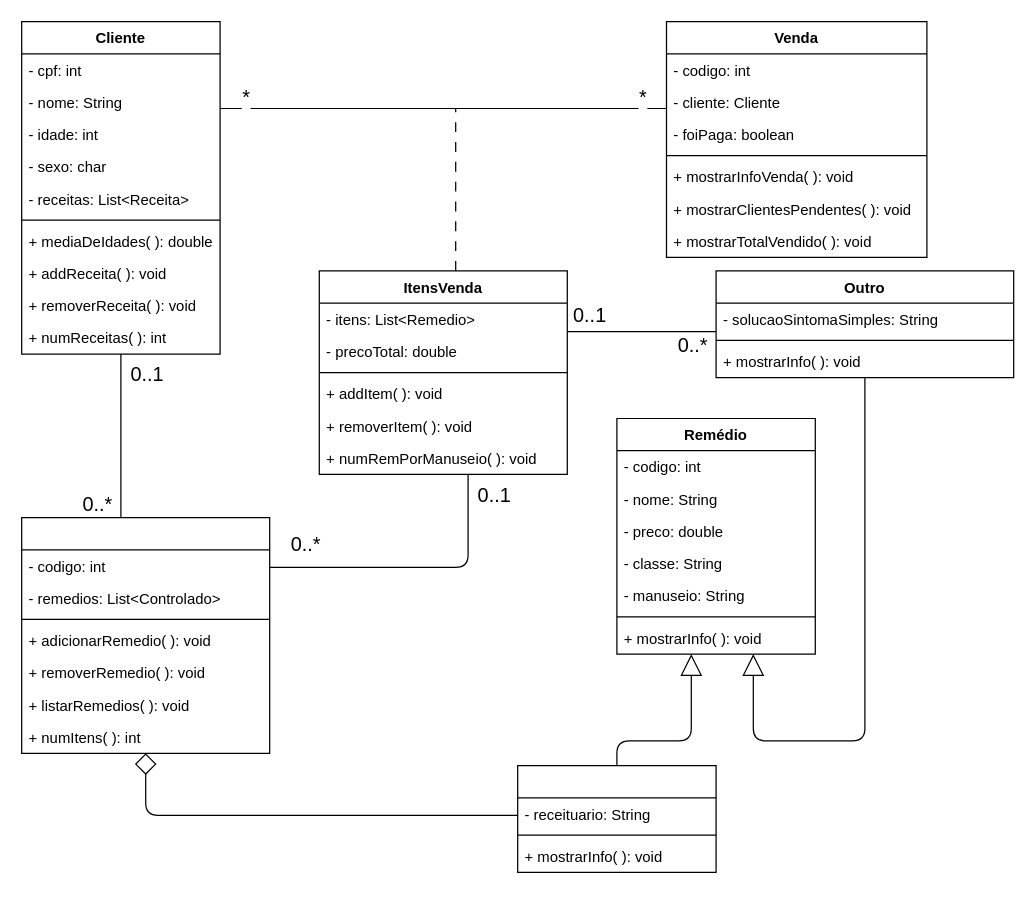
Image size: 1035x898. Some labels were removed from this diagram. The box of each missing label's shape, as (x1, y1, x2, y2) in pixels:
Controlado: (516, 764, 716, 872)
Receita: (20, 516, 270, 753)
